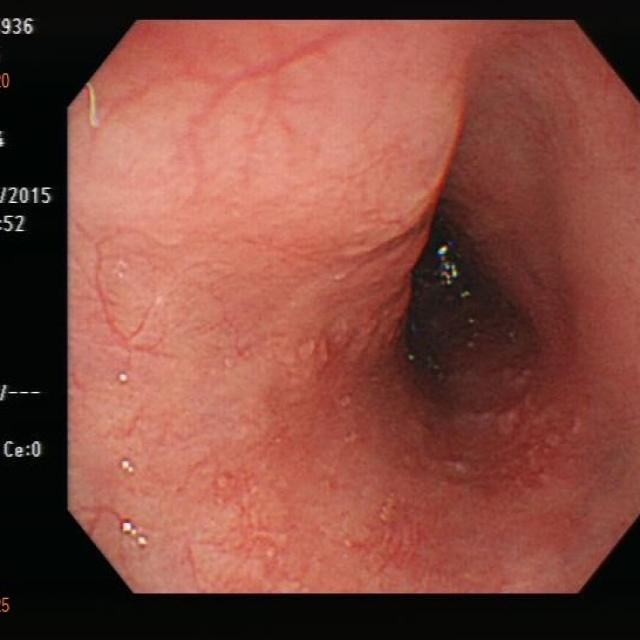A: (499, 368, 584, 478), (358, 497, 439, 576), (324, 300, 405, 379)
E: (407, 213, 546, 397)
S: (2, 184, 59, 207), (2, 15, 41, 41), (2, 382, 47, 404), (3, 440, 48, 461), (2, 214, 32, 235), (2, 73, 14, 93), (2, 595, 12, 616)
